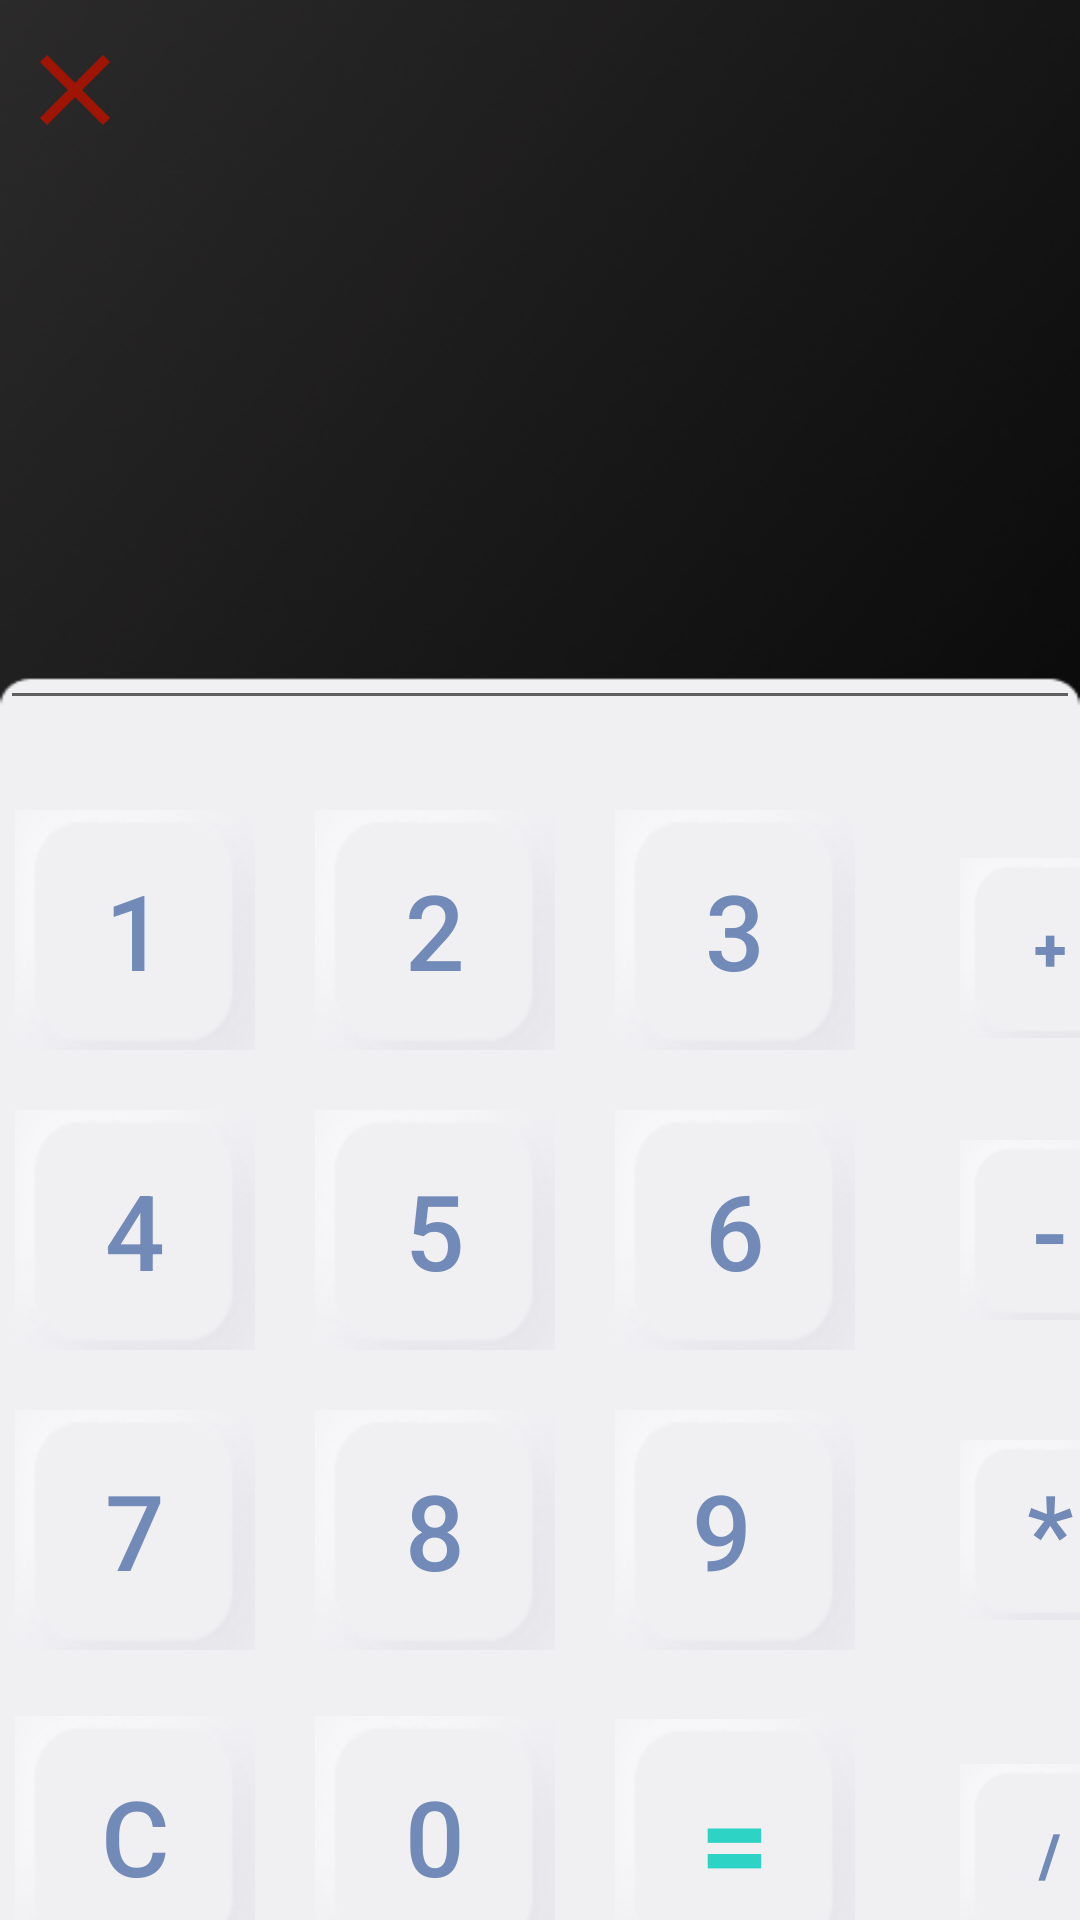

Icons on this 1080px x 1920px Android screen, each with the point to tap as (x=x, y=y):
clear: (x=75, y=90)
